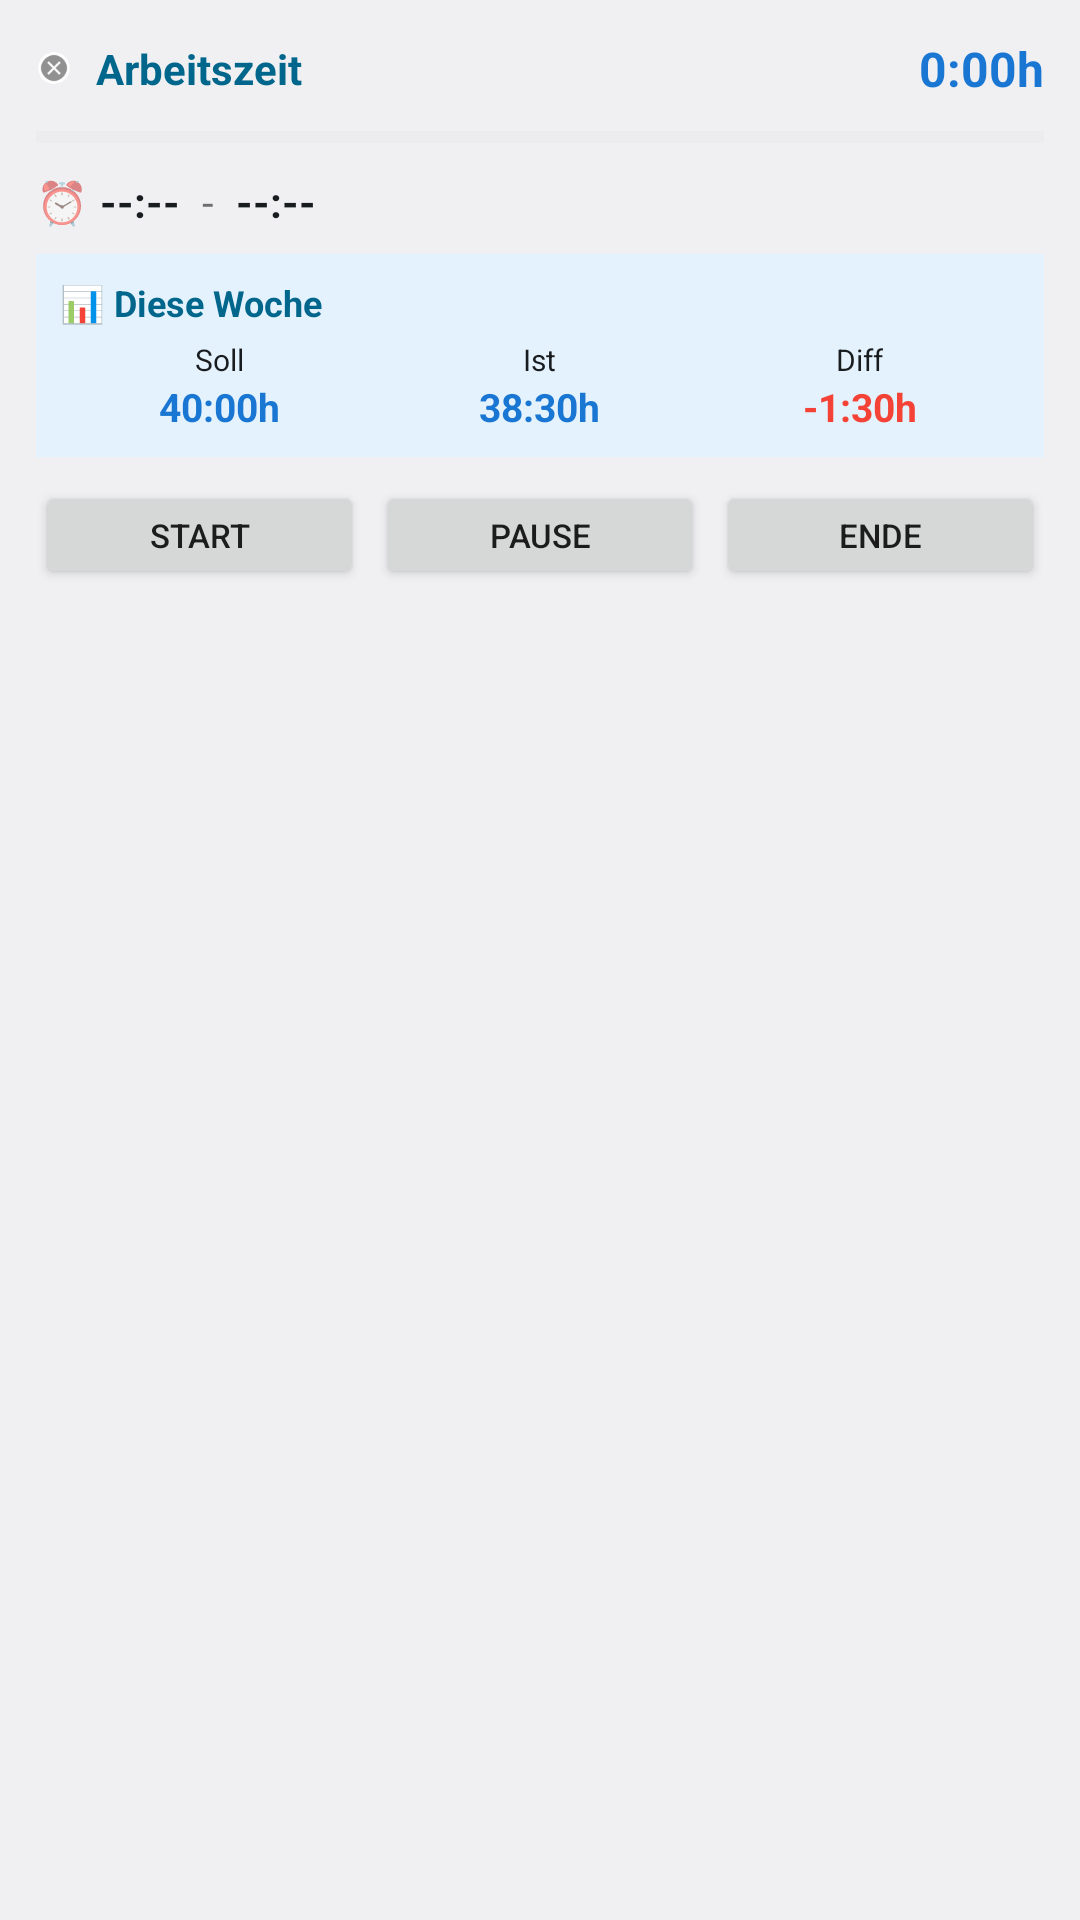

Screen size 1080×1920. Icon name, then its center in pixels as [x,y]:
presence offline: [54,68]
